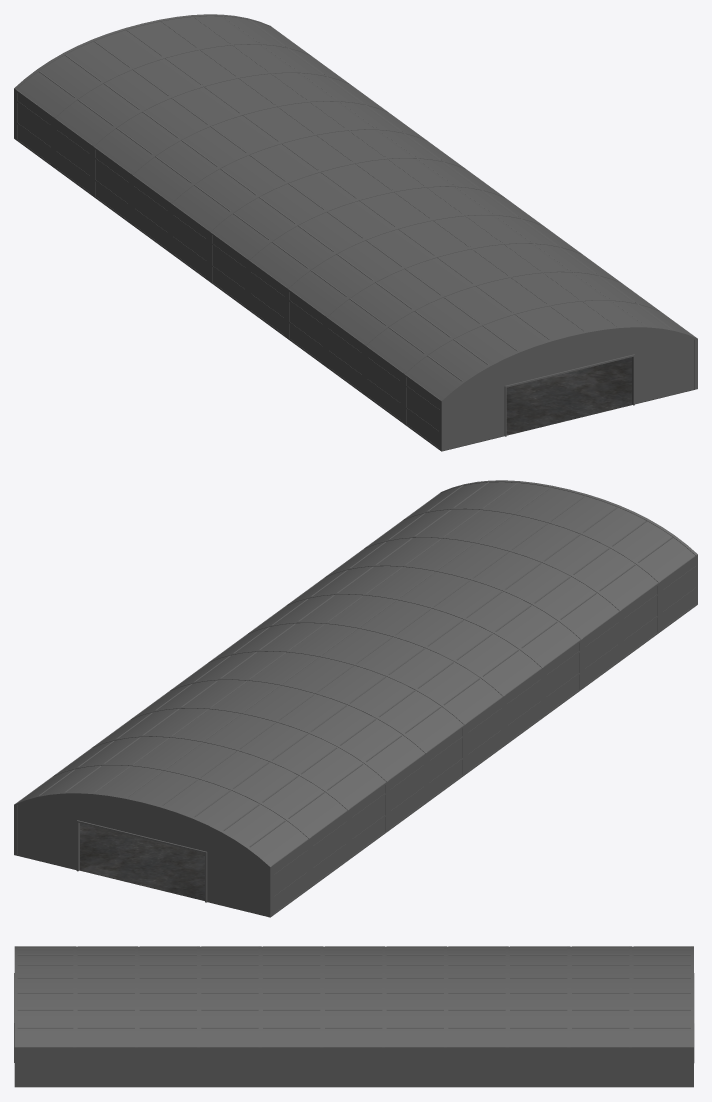
Rendered from Warehouse_Open (1).fbx.
3 renders of one model, top to bottom at view 1: azimuth 30°, elevation 25°; view 2: azimuth 150°, elevation 25°; view 3: azimuth 270°, elevation 25°, orthographic. The views are drawn at different scales.
Visible parts, largest first — view 1: NurbsPath.005; view 2: NurbsPath.005; view 3: NurbsPath.005.
Boxes of the visible parts, x1,y1,x2,y2 form: NurbsPath.005: [14, 14, 697, 451]; NurbsPath.005: [14, 480, 697, 917]; NurbsPath.005: [14, 946, 694, 1087].
Size of the model in its own units: 1600 by 502 by 4652.
